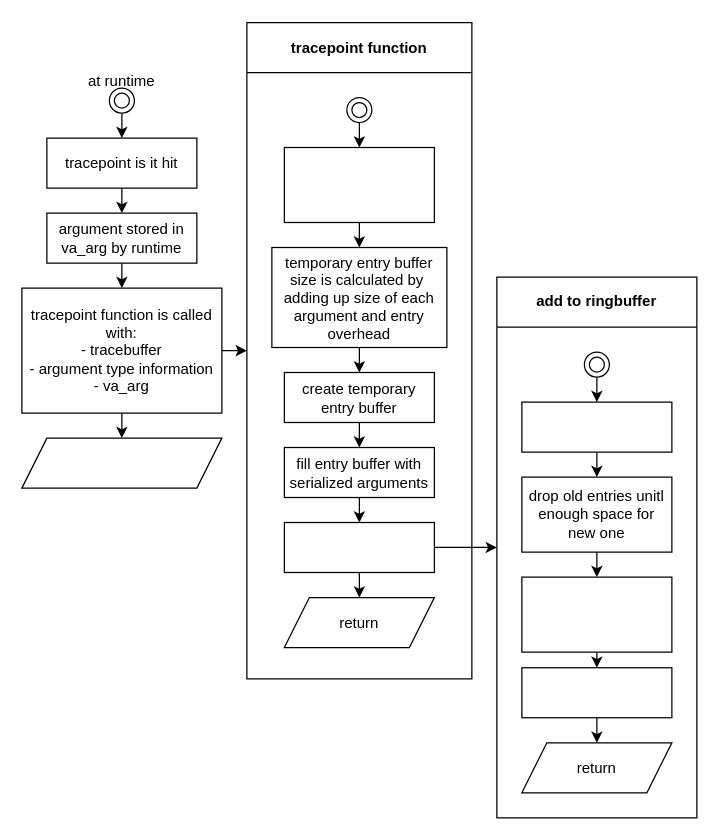
Image size: 719x840. Some labels were removed from this diagram. Here are the shapes that lost their labels. From the top down, the centre of each, then its label:
At [358,184]: "timestamp, process and thread id are gatherd".
At [596,426]: "get semaphore".
At [121,462]: "progamm resums after tracepoint".
At [358,546]: "add entry to ringbuffer".
At [596,614]: "add new entry to ringbuffer and crc".
At [596,692]: "release semaphore".
